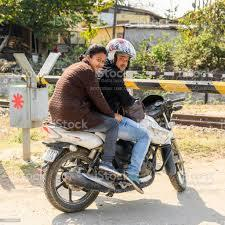helmet: (108, 38, 139, 72)
no_helmet: (94, 54, 106, 71)
